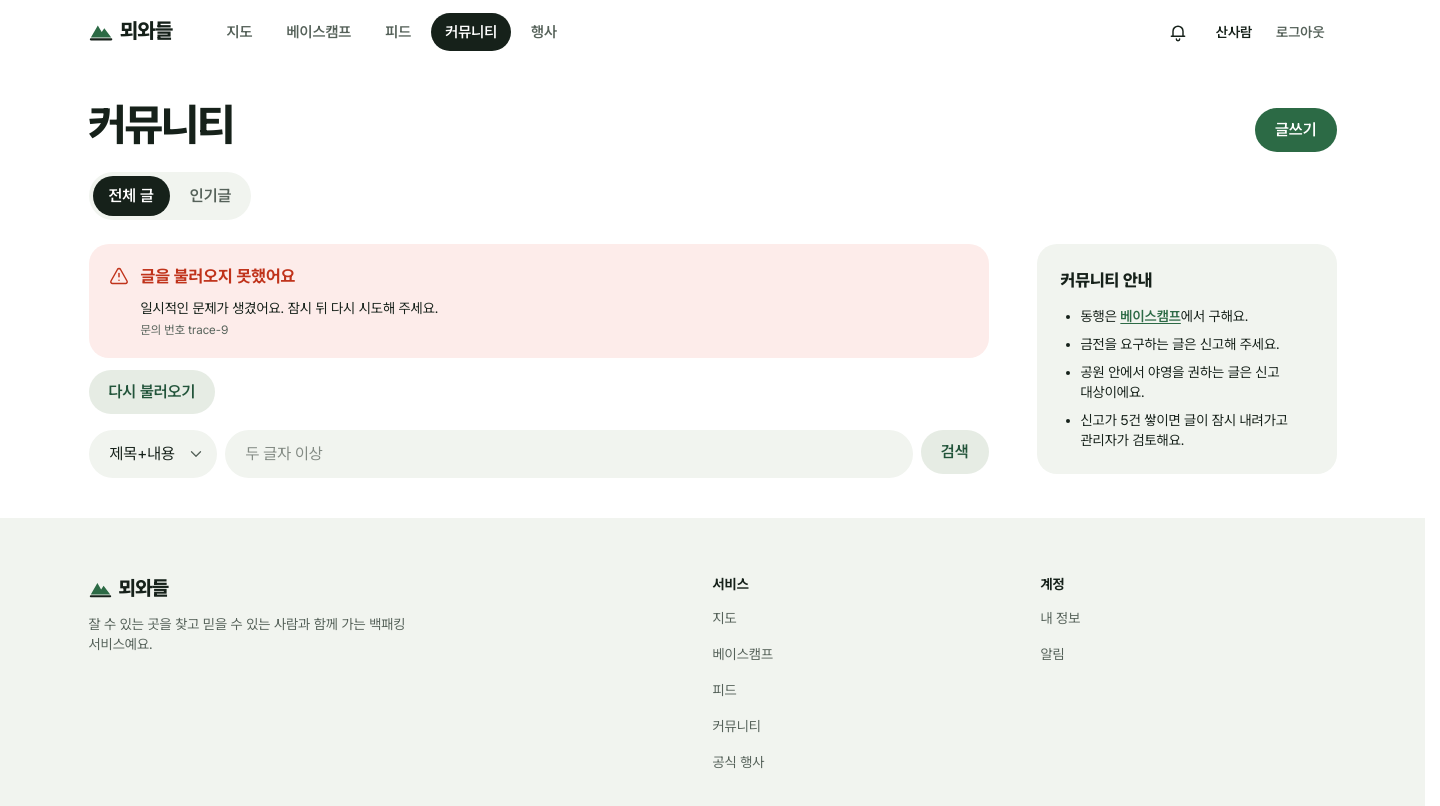
Test: 커뮤니티 글 목록 화면 › 처음 불러오지 못하면 오류 문구를 보여 주고 다시 불러오기를 누르면 글이 나온다
Expected: the message "글을 불러오지 못했어요 일시적인 문제가 생겼어요. 잠시 뒤 다시 시도해 주세요. 문의 번호 trace-9 다시 불러오기" is shown, [88,244,988,414]
Click the button "다시 불러오기" at (152,392), box [88,370,215,414]
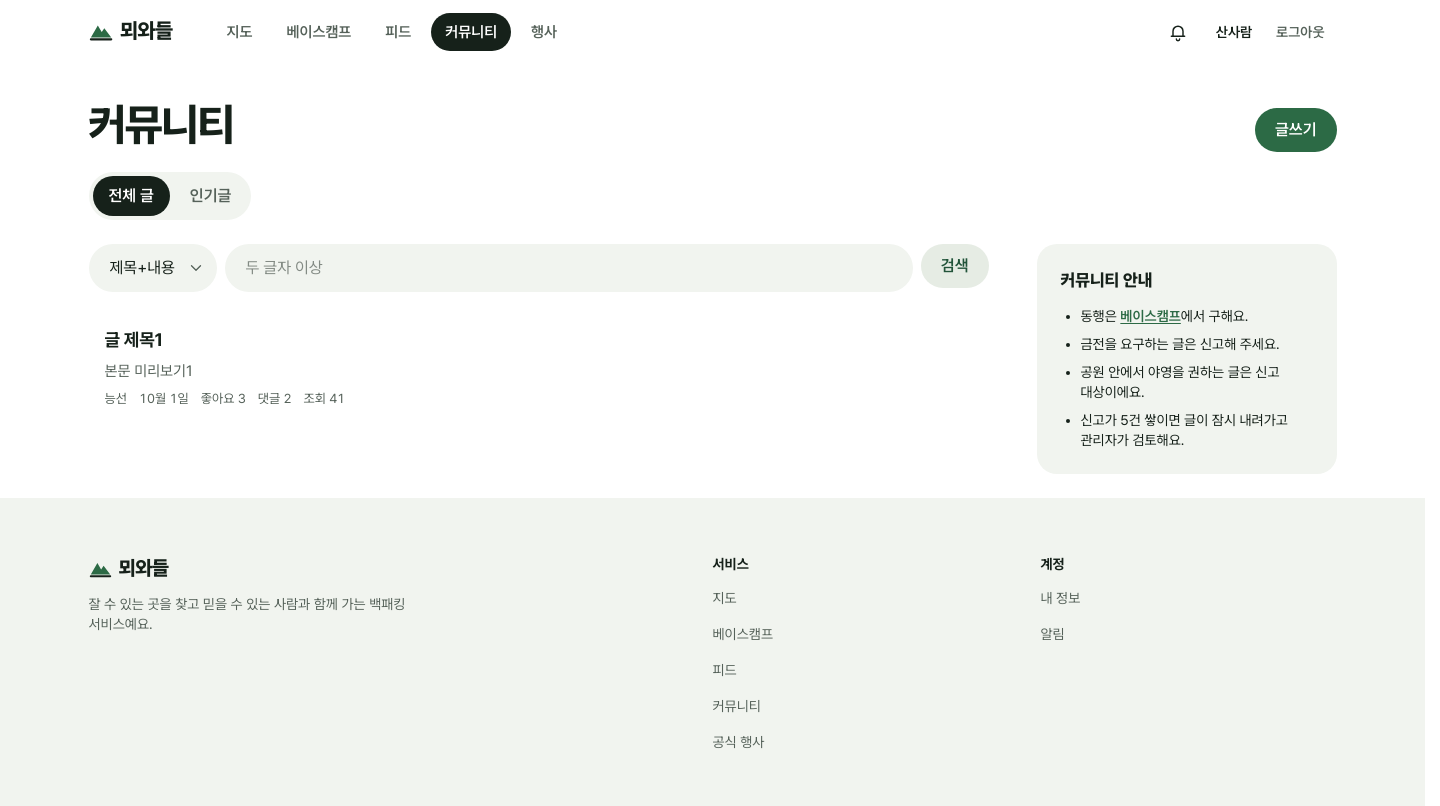
Result: the text "글 제목1" is shown at [104,328,163,353]
Result: the text "글을 불러오지 못했어요" is gone
